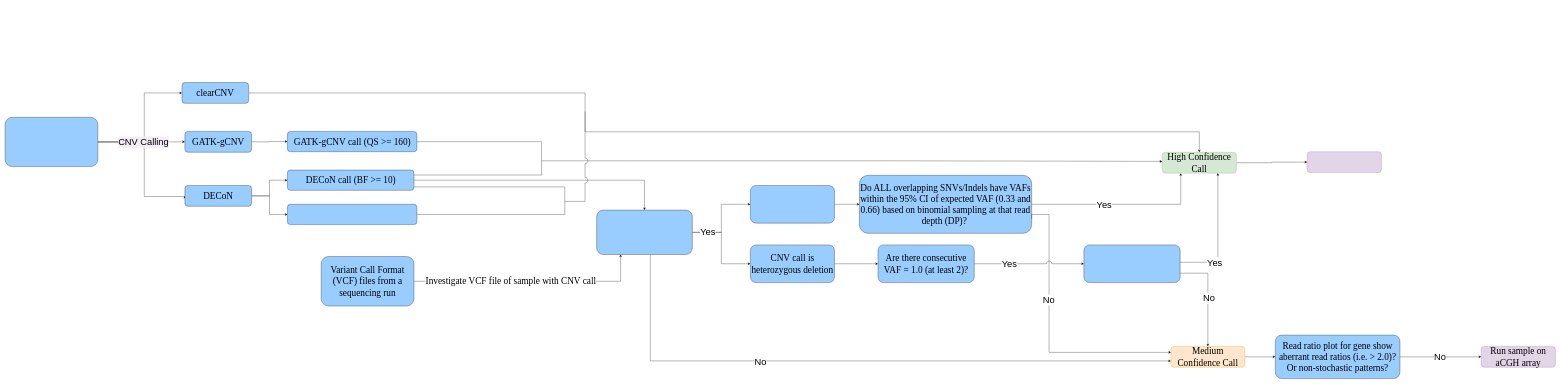
Image size: 1560x384. Some labels were removed from this diagram. The shapes that lost their labels are listed below. From the top down, each one's centre as x and y in pixels, then its label:
the point at 51,142: Binary Alignment Map (BAM) files from a sequencing run
the point at 1344,162: CNV annotation workflow
the point at 352,214: DECoN call (BF < 10)
the point at 792,204: CNV call is heterozygous duplication
the point at 644,232: Does CNV call have overlapping SNVs/Indels with DP > 100?
the point at 1132,264: Are all VAFs = 1.0?
